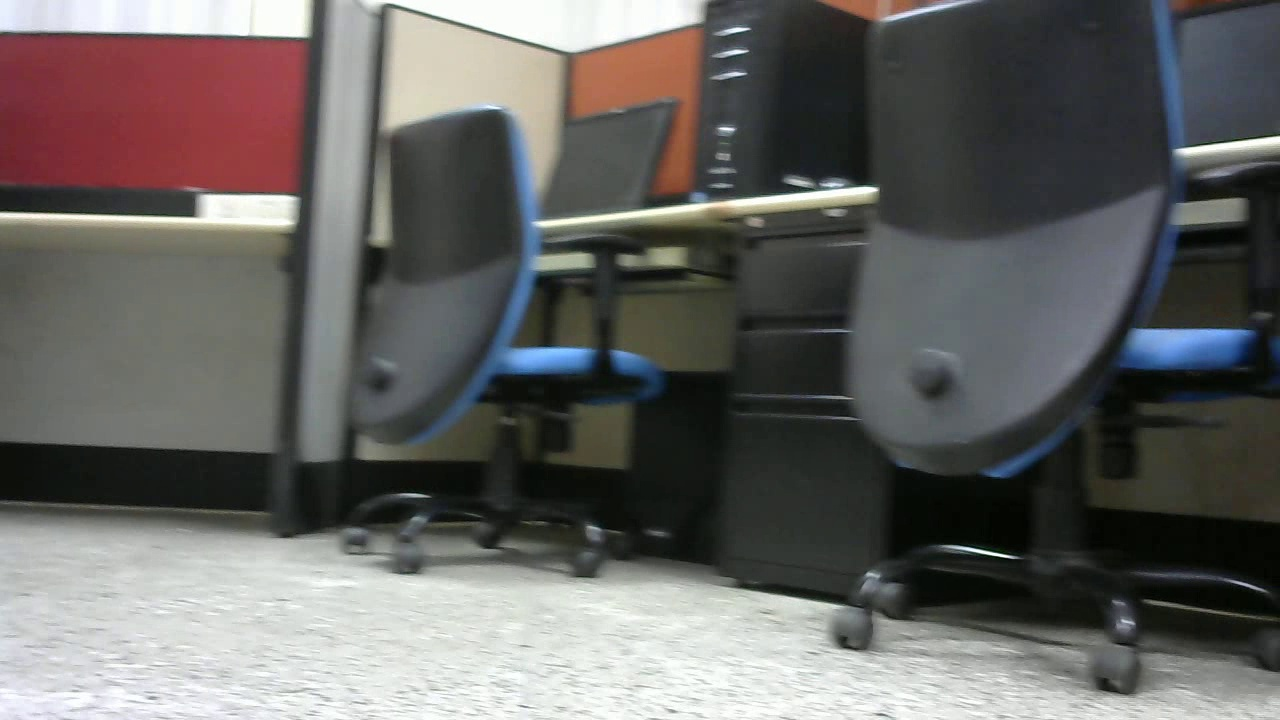chair: (821, 4, 1280, 720), (320, 77, 674, 575)
